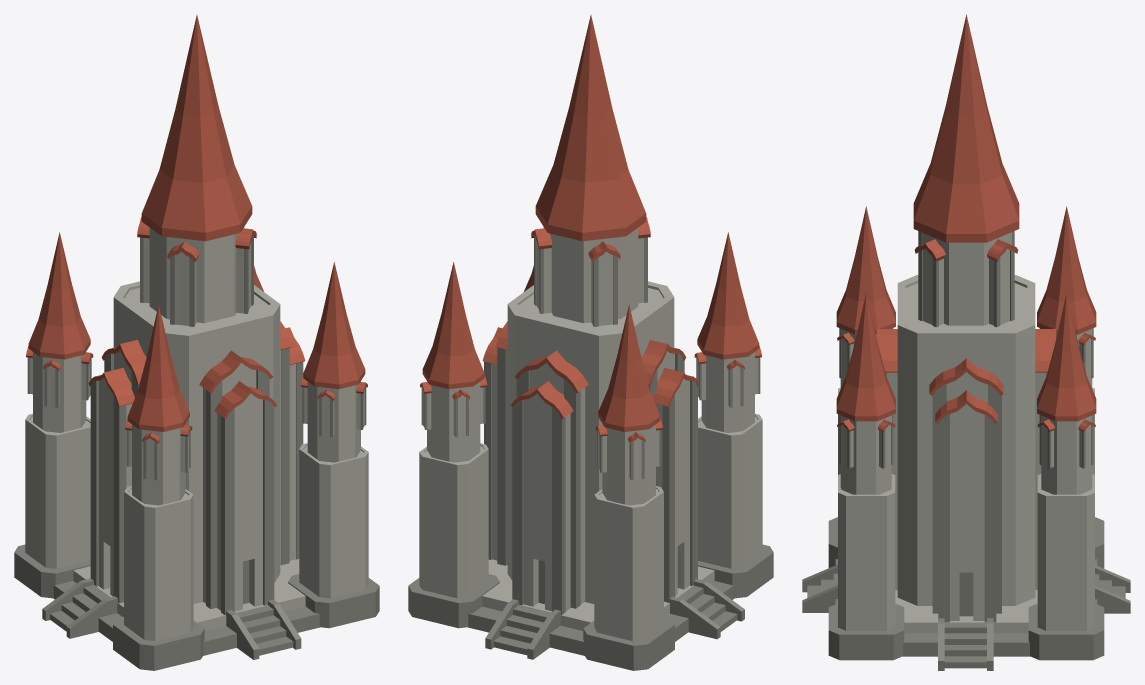
File: quaternius-real-time-strategy-temple-second-age-level-3.glb
3 views of the same model, side by side, from view 1: azimuth 30°, elevation 25°; view 2: azimuth 150°, elevation 25°; view 3: azimuth 270°, elevation 25° (orthographic).
Parts seen in each view (by area): view 1: Temple_SecondAge_Level3; view 2: Temple_SecondAge_Level3; view 3: Temple_SecondAge_Level3.
Part boxes in pixels (x1,y1,x2,y2): Temple_SecondAge_Level3: (14,15,379,670); Temple_SecondAge_Level3: (408,15,773,670); Temple_SecondAge_Level3: (802,14,1130,670).
Bounding box in the file's own units: 2.19 × 4.33 × 2.19.
